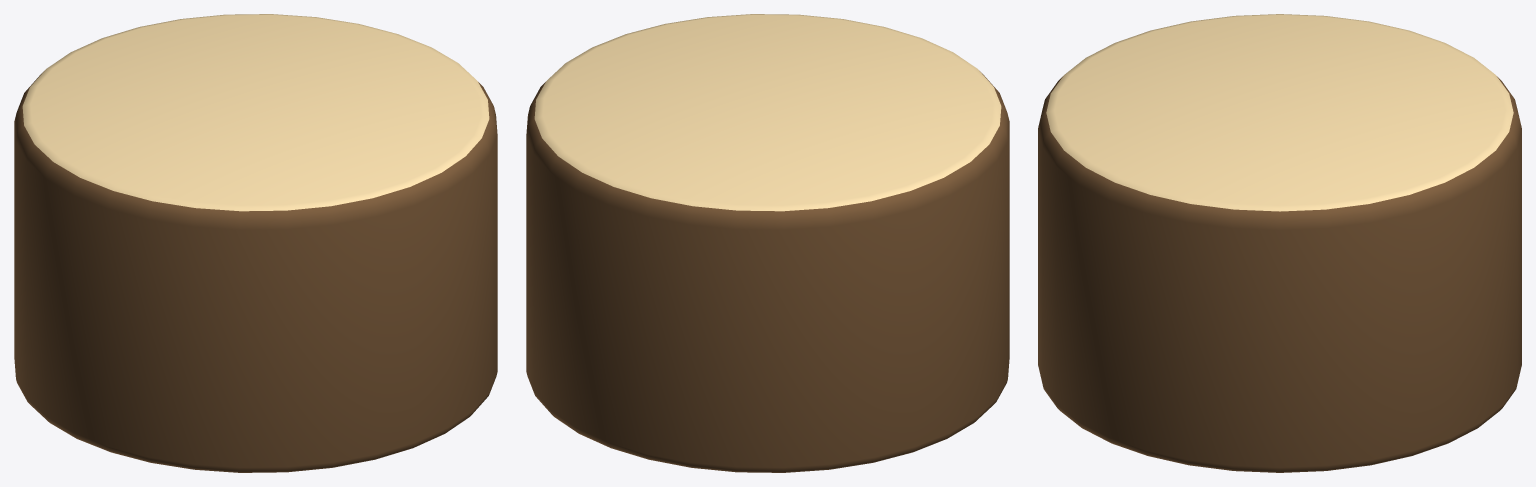
Rendered from sm_wood trunk.fbx.
3 renders of one model, left to right at view 1: azimuth 30°, elevation 25°; view 2: azimuth 150°, elevation 25°; view 3: azimuth 270°, elevation 25°, orthographic.
Visible parts, largest first — view 1: fullLog.002; view 2: fullLog.002; view 3: fullLog.002.
Part boxes in pixels (x1,y1,x2,y2): fullLog.002: [14, 14, 497, 472]; fullLog.002: [526, 14, 1009, 472]; fullLog.002: [1038, 14, 1521, 472].
Bounding box in the file's own units: 50 × 30 × 50.
